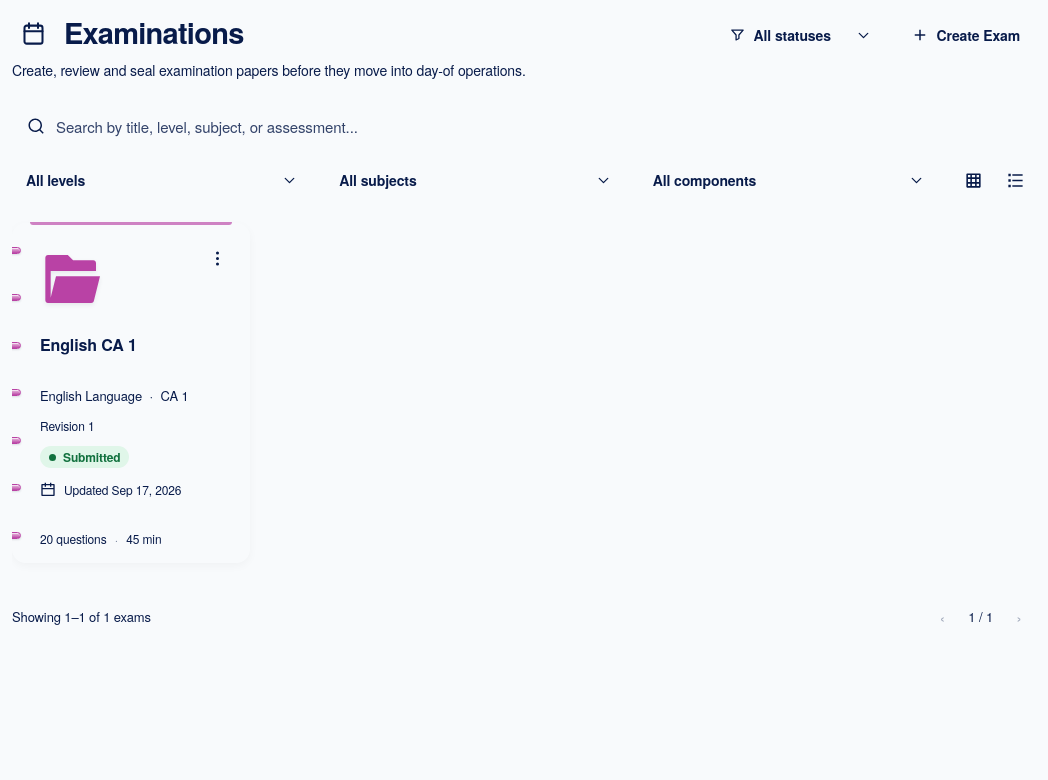
it: offers every backend lifecycle in one compact filter
Click the dropdown named "Lifecycle filter" at (800, 35), box [716, 12, 884, 58]
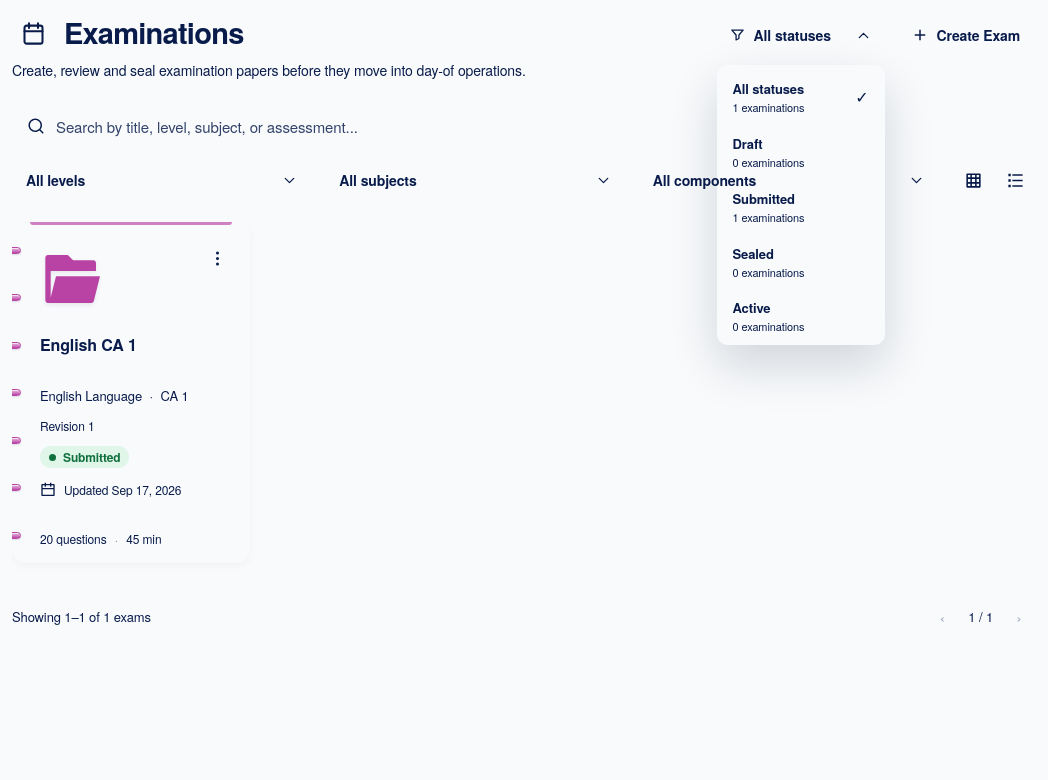
Expected: the option "Sealed 0 examinations" is shown, [722, 236, 878, 287]
